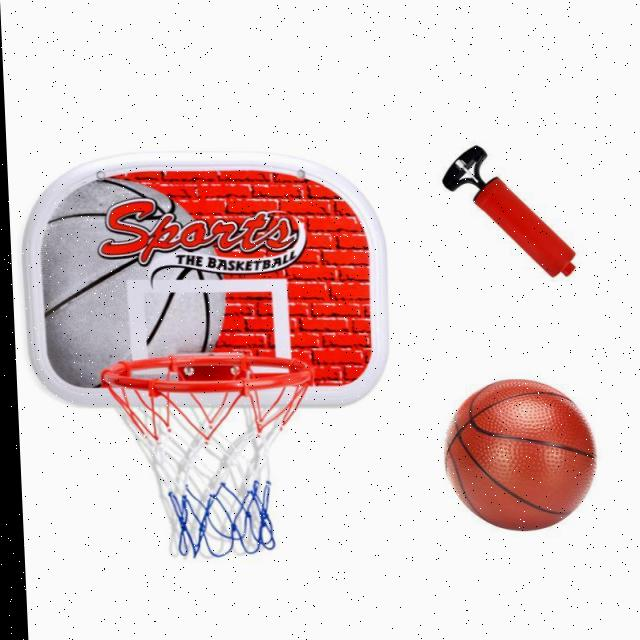basketball: (441, 377, 601, 533)
hoop: (98, 358, 320, 558)
